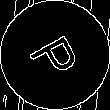P_NE: (24, 27, 86, 83)
